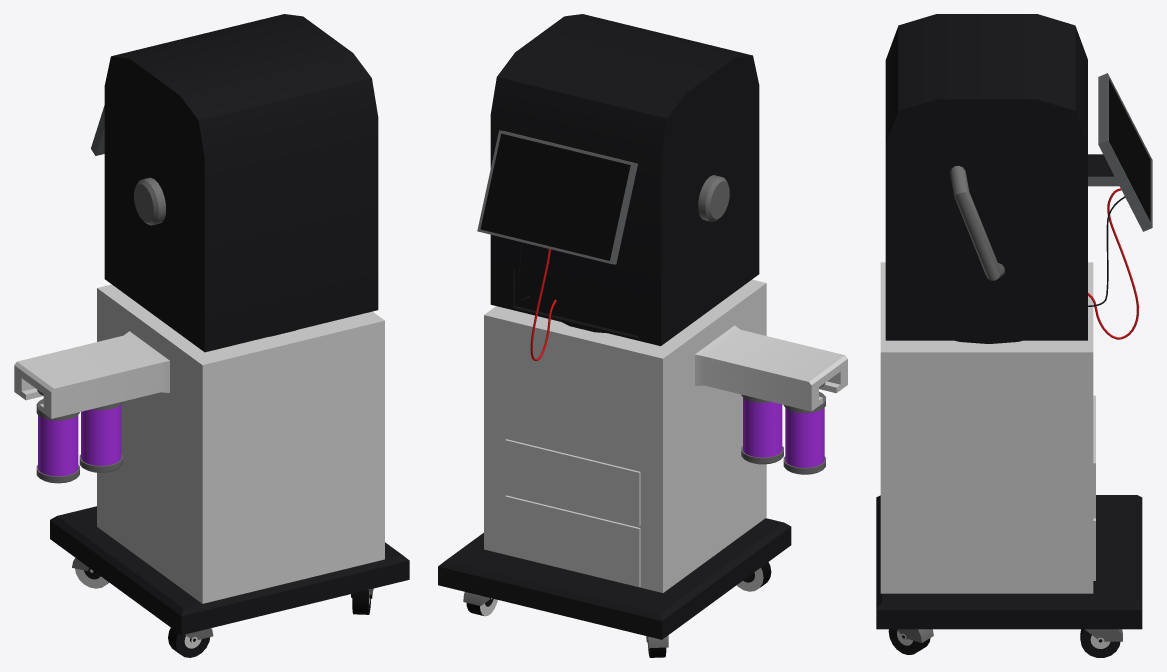
The model's file is Lab_SmallMachine.fbx.
3 views of the same model, side by side, from view 1: azimuth 30°, elevation 25°; view 2: azimuth 150°, elevation 25°; view 3: azimuth 270°, elevation 25° (orthographic). The views are drawn at different scales.
Visible parts, largest first — view 1: Box216; view 2: Box216; view 3: Box216.
Boxes of the visible parts, x1,y1,x2,y2 form: Box216: (14, 14, 409, 657); Box216: (438, 14, 847, 657); Box216: (876, 14, 1152, 657).
Size of the model in its own units: 71.39 by 115 by 51.98.
